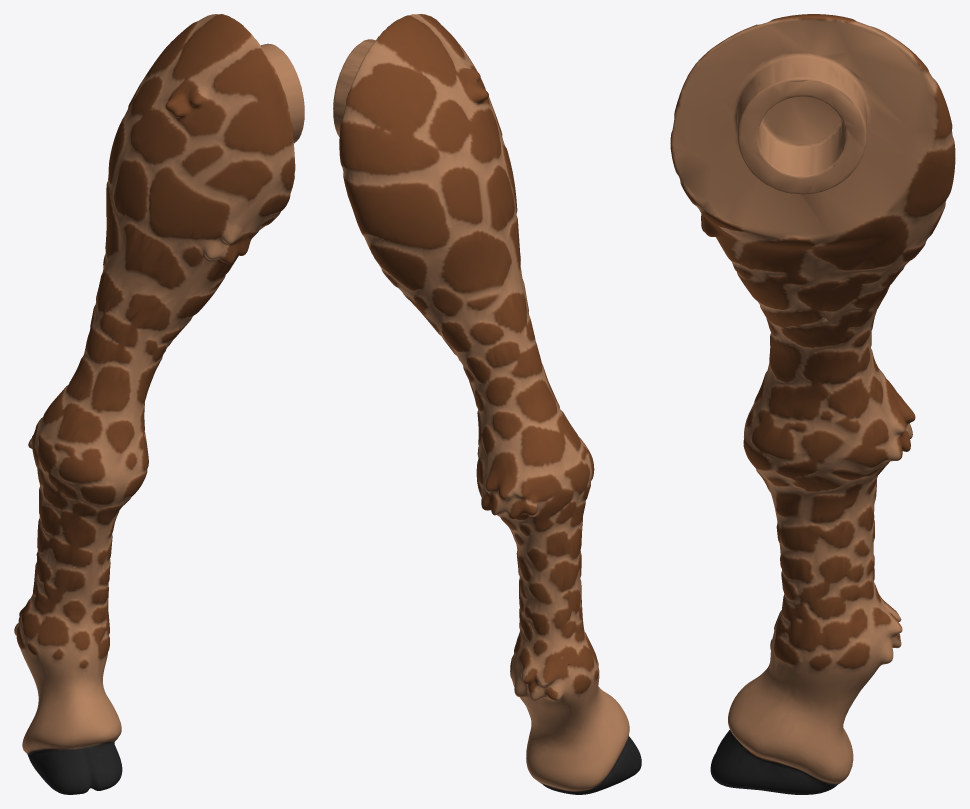
File: Bras_Girafe_rg.glb
3 views of the same model, side by side, from view 1: azimuth 30°, elevation 25°; view 2: azimuth 150°, elevation 25°; view 3: azimuth 270°, elevation 25° (orthographic). The views are drawn at different scales.
Visible parts, largest first — view 1: Bras_Girafe_rg; view 2: Bras_Girafe_rg; view 3: Bras_Girafe_rg.
Part boxes in pixels (bbox=[...]): Bras_Girafe_rg: bbox=[14, 14, 304, 794]; Bras_Girafe_rg: bbox=[333, 14, 641, 794]; Bras_Girafe_rg: bbox=[670, 14, 955, 794].
Size of the model in its own units: 2.38 by 6.35 by 1.89.
